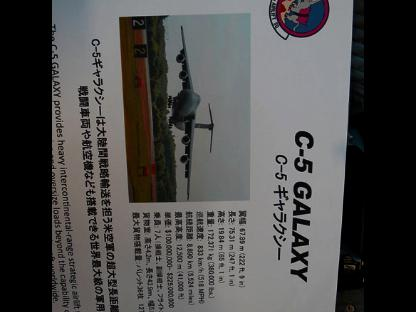C17: (167, 24, 214, 200)
